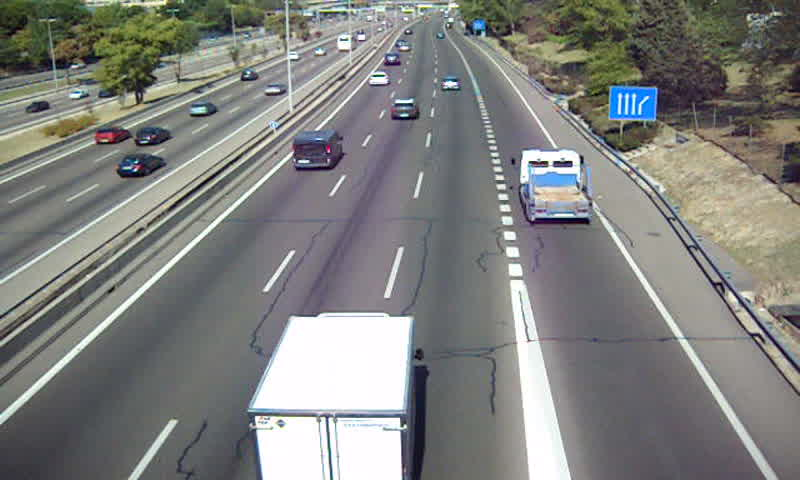car: (390, 98, 418, 122), (441, 77, 462, 94), (366, 72, 388, 88), (383, 51, 402, 67)
small-truck: (249, 313, 415, 480), (517, 148, 592, 225)
van: (291, 131, 343, 169)
